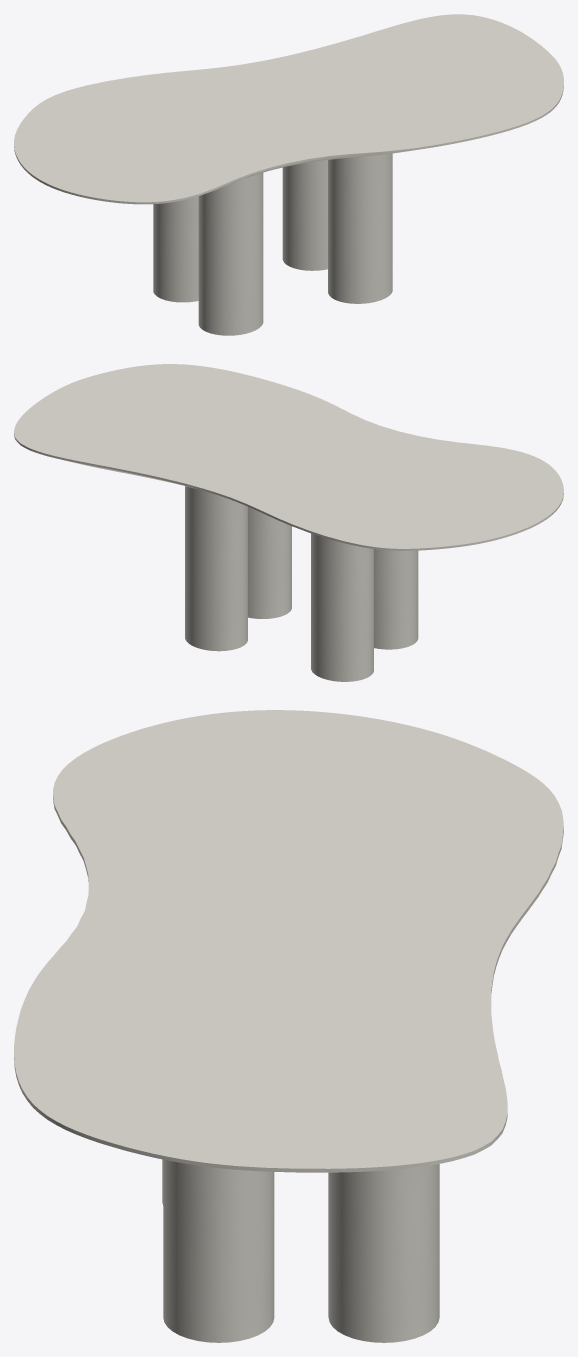
Rendered from pale_wave_facet_grove.glb.
The picture shows the model from 3 angles, top to bottom: view 1: azimuth 30°, elevation 25°; view 2: azimuth 150°, elevation 25°; view 3: azimuth 270°, elevation 25°; orthographic projection. The views are drawn at different scales.
Parts seen in each view (by area): view 1: facet_wave, grove; view 2: facet_wave, grove; view 3: facet_wave, grove.
Boxes of the visible parts, x1,y1,x2,y2 form: facet_wave: [14, 14, 563, 204]; grove: [153, 153, 392, 335]; facet_wave: [14, 364, 563, 550]; grove: [185, 486, 418, 681]; facet_wave: [14, 710, 563, 1172]; grove: [162, 1159, 439, 1342].
Bounding box in the file's own units: 7.5 × 2.51 × 3.8.
1 material, 1 textured.
